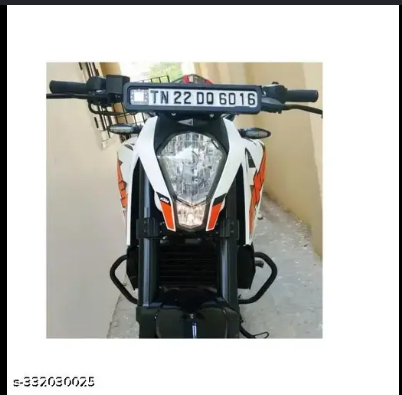licence: (125, 86, 261, 113)
